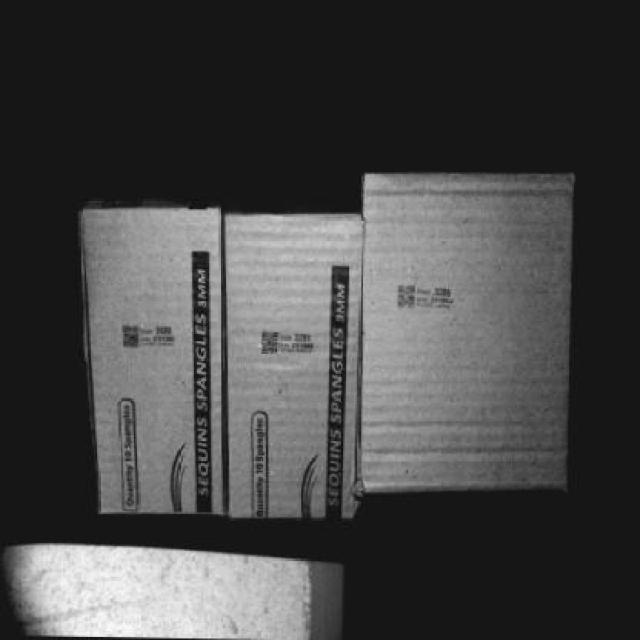cardboxes: (361, 173, 570, 481), (82, 214, 232, 517), (223, 213, 365, 513)
